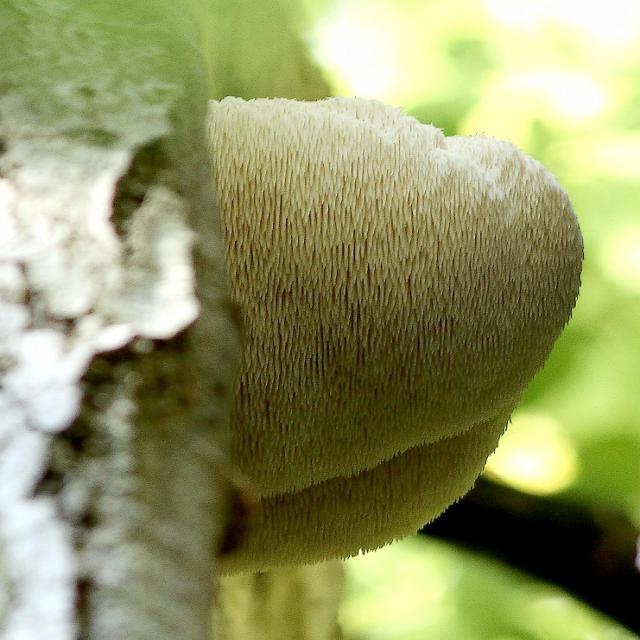Hericium erinaceus: (194, 94, 582, 570)
